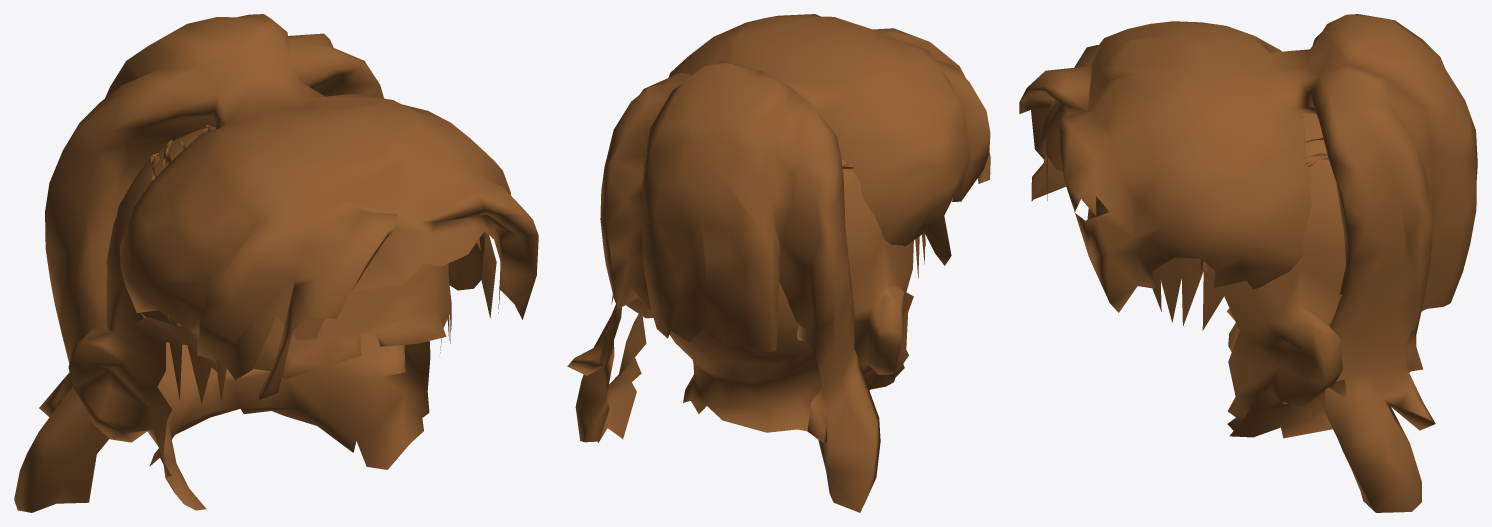
The model's file is ponytail.glb.
The picture shows the model from 3 angles, left to right: view 1: azimuth 30°, elevation 25°; view 2: azimuth 150°, elevation 25°; view 3: azimuth 270°, elevation 25°; orthographic projection. The views are drawn at different scales.
Parts seen in each view (by area): view 1: Hair, HairScalp; view 2: Hair, HairScalp; view 3: Hair, HairScalp.
Boxes of the visible parts, bbox=[...] form: Hair: bbox=[14, 14, 538, 512]; HairScalp: bbox=[68, 127, 451, 510]; Hair: bbox=[567, 14, 990, 512]; HairScalp: bbox=[626, 159, 925, 432]; Hair: bbox=[1019, 14, 1477, 512]; HairScalp: bbox=[1151, 113, 1346, 438].
Size of the model in its own units: 0.4724 by 0.5775 by 0.5744.
